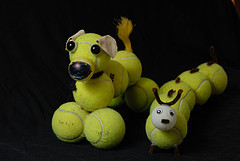tennis ball: (67, 32, 114, 75), (83, 107, 128, 150), (143, 109, 191, 149), (51, 100, 91, 144), (72, 74, 116, 112), (159, 80, 200, 117), (149, 93, 193, 126), (178, 69, 213, 108), (110, 49, 143, 88), (195, 62, 229, 97), (125, 77, 161, 110)
